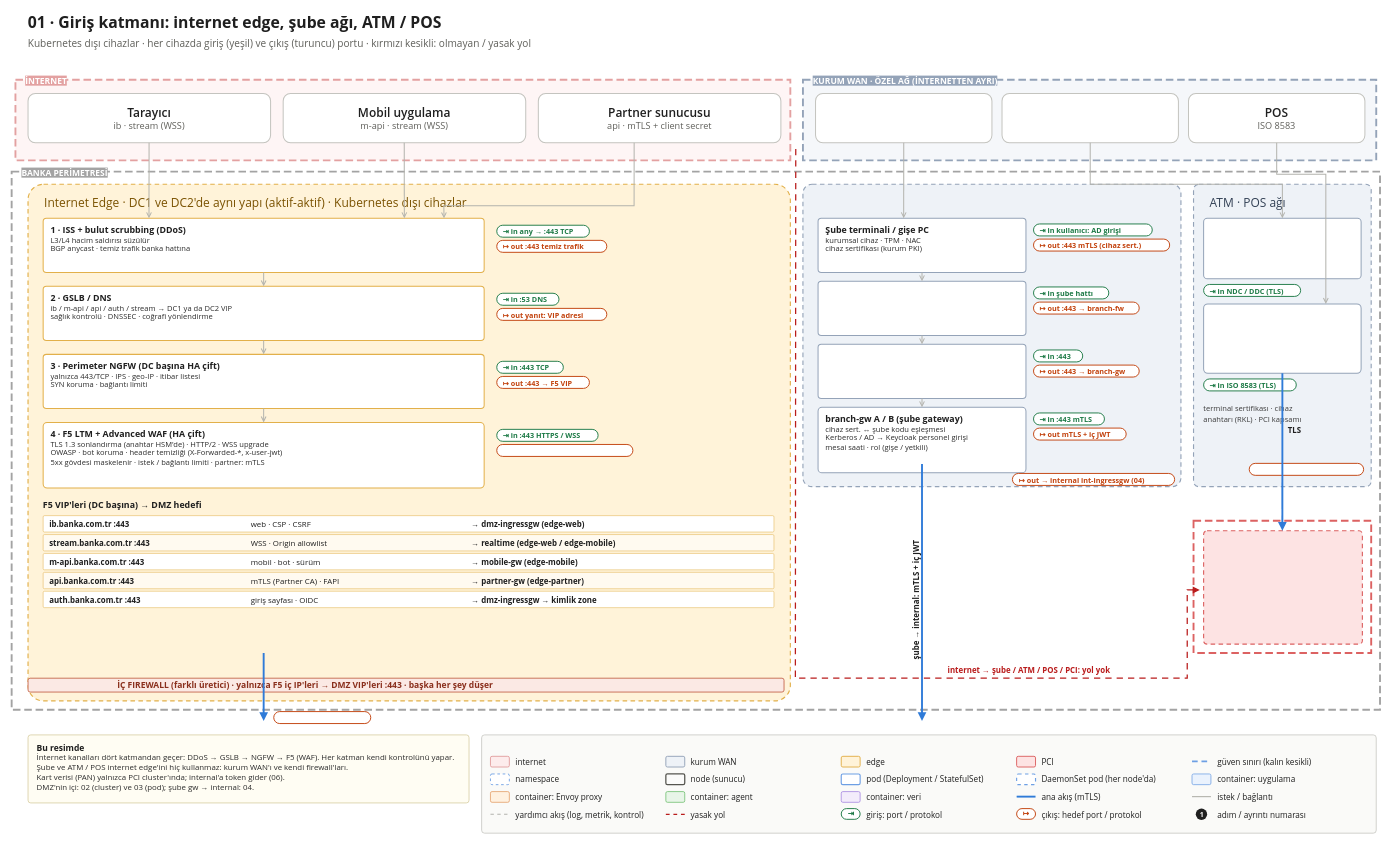
Image size: 1392x844. Some labels were removed from this diagram. Here are the shapes that lost their labels. From the top down, the box of each, then its label:
(815, 93, 992, 143): Şube terminali cihaz sertifikası
(1001, 93, 1179, 143): ATM NDC / DDC
(1203, 217, 1361, 279): atm-fw özel ATM ağı (kiralık hat) TID izin listesi
(817, 280, 1026, 336): SD-WAN / MPLS hub şube → DC hattı (şifreli) internet edge'inden geçmez
(802, 183, 1181, 487): Şube zone · kurum WAN
(1203, 303, 1361, 373): APN gw · pos-fw GSM APN (özel) / sabit hat MID / TID izin listesi ISO 8583 (TLS)
(817, 343, 1026, 399): branch-fw (NGFW, HA) yalnızca :443 → branch-gw şube IP aralığı izin listesi
(496, 444, 633, 457): ↦ out :443 mTLS (Edge-DMZ CA)
(1248, 463, 1364, 476): ↦ out → PCI cluster (06)
(1192, 519, 1372, 654): PCI DSS
(1203, 530, 1363, 644): ocp-pci (06) atm-switch · pos-switch iso8583-adapter HSM: PIN · CVV
(273, 711, 371, 724): ↦ out → DMZ: 02 · 03
(481, 734, 1376, 833): Lejant
